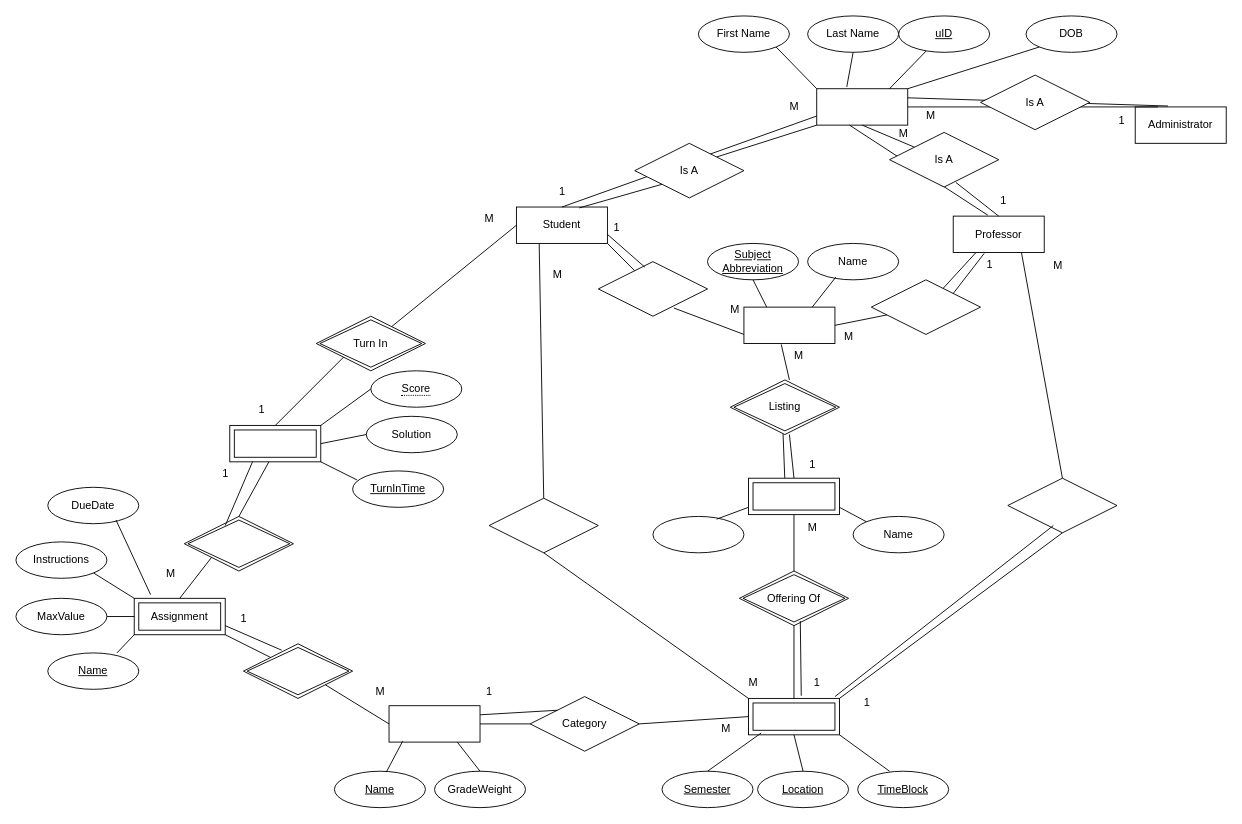
The diagram is 1242 pixels wide and 824 high, and some of its shapes have lost their labels. Here are the shapes that lost their labels. From the top down, the centre of each, then its label:
the point at 862,106: User
the point at 652,288: Majoring In
the point at 925,306: Working for
the point at 789,325: Department
the point at 275,443: Submission
the point at 793,496: Courses
the point at 1062,505: Taught By
the point at 238,543: Submit
the point at 543,525: Enrolled In
the point at 698,534: cID
the point at 298,670: Type Of
the point at 434,723: Assignment Category
the point at 793,716: Class
